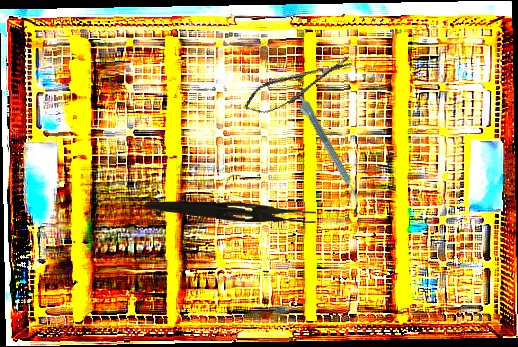Dressing Forceps: (144, 199, 317, 224)
Handpiece: (292, 94, 361, 201)
Micro Scissor: (239, 50, 358, 120)
